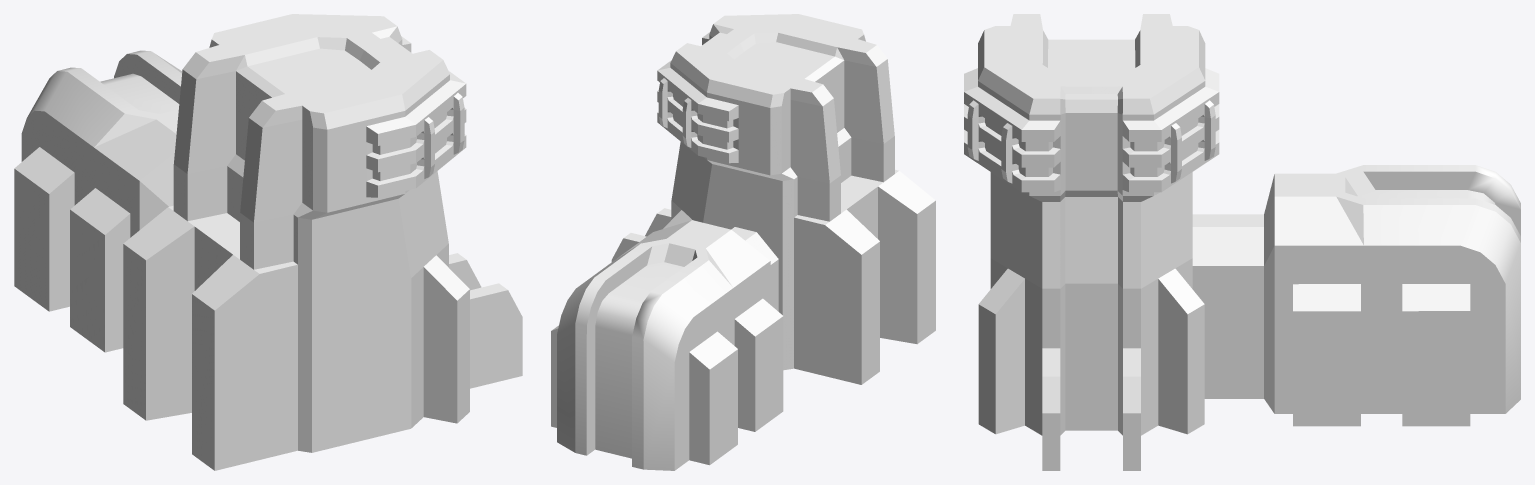
The model's file is station1.obj.
3 views of the same model, side by side, from view 1: azimuth 30°, elevation 25°; view 2: azimuth 150°, elevation 25°; view 3: azimuth 270°, elevation 25° (orthographic). The views are drawn at different scales.
Visible parts, largest first — view 1: cube2_sep99, cube2_sep102; view 2: cube2_sep99, cube2_sep102; view 3: cube2_sep99, cube2_sep102.
Part boxes in pixels (box(x1,y1,x2,y2)): cube2_sep99: box(123, 14, 522, 470); cube2_sep102: box(14, 50, 182, 352); cube2_sep99: box(611, 14, 935, 384); cube2_sep102: box(551, 220, 783, 470); cube2_sep99: box(964, 14, 1219, 470); cube2_sep102: box(1192, 165, 1520, 426).
Size of the model in its own units: 30.4 by 30.06 by 45.67.
Materials: 1 (1 with a texture image).
